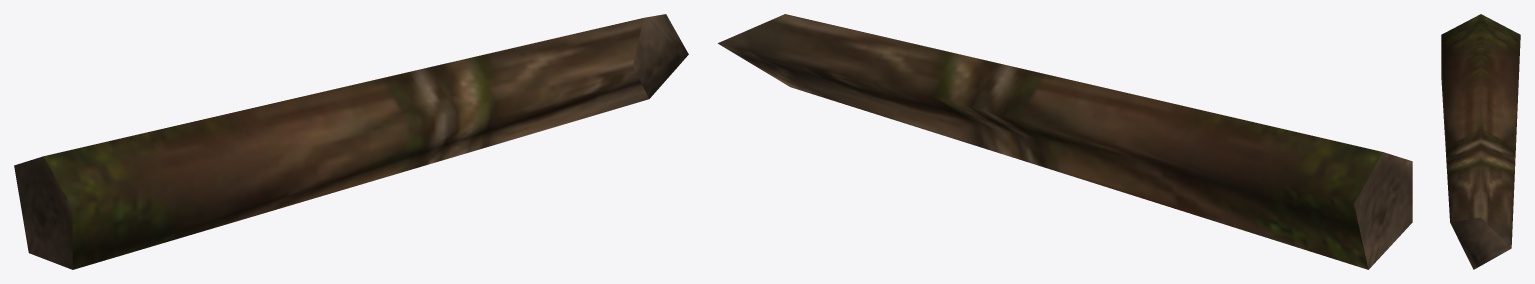
File: common_yewai_muzhuang03.FBX
3 renders of one model, left to right at view 1: azimuth 30°, elevation 25°; view 2: azimuth 150°, elevation 25°; view 3: azimuth 270°, elevation 25°, orthographic. The views are drawn at different scales.
Parts seen in each view (by area): view 1: common_yewai_muzhuang03; view 2: common_yewai_muzhuang03; view 3: common_yewai_muzhuang03.
Part boxes in pixels (x1,y1,x2,y2): common_yewai_muzhuang03: (14, 14, 688, 269); common_yewai_muzhuang03: (718, 14, 1412, 269); common_yewai_muzhuang03: (1441, 14, 1520, 269).
Bounding box in the file's own units: 1.72 × 0.2735 × 0.2706.
